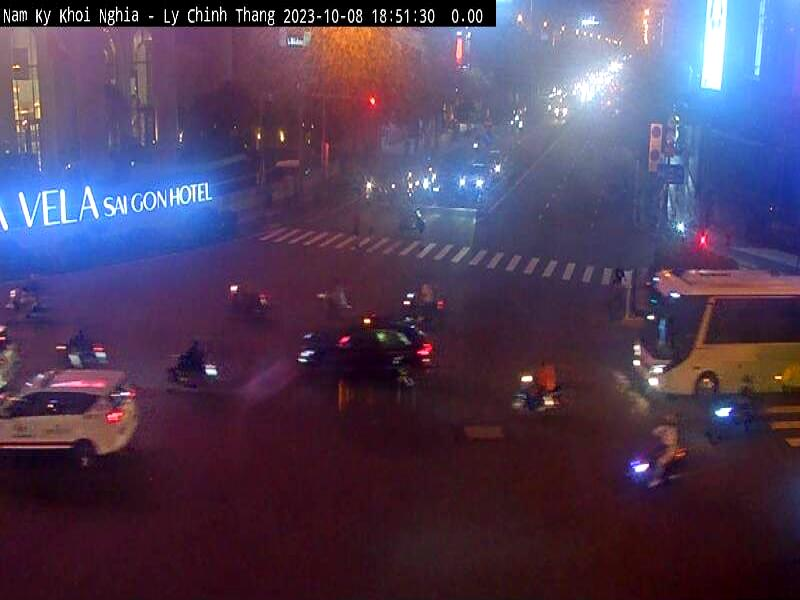bus: (621, 260, 800, 429)
car: (0, 358, 139, 486)
